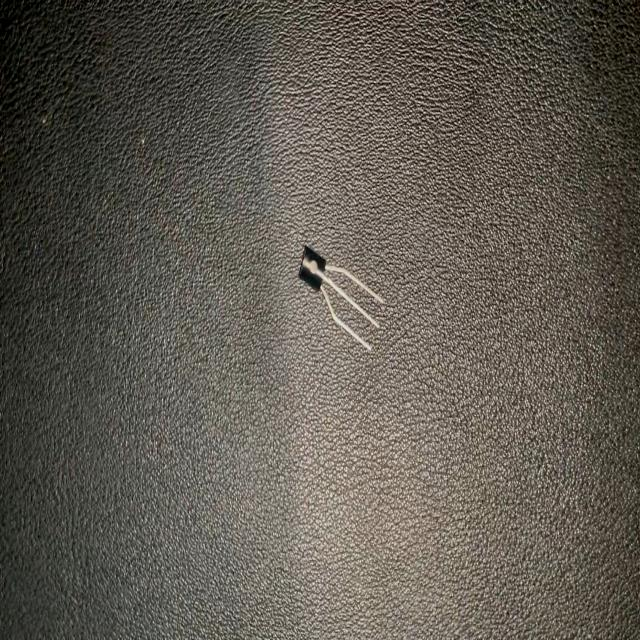BJT: (295, 240, 384, 350)
